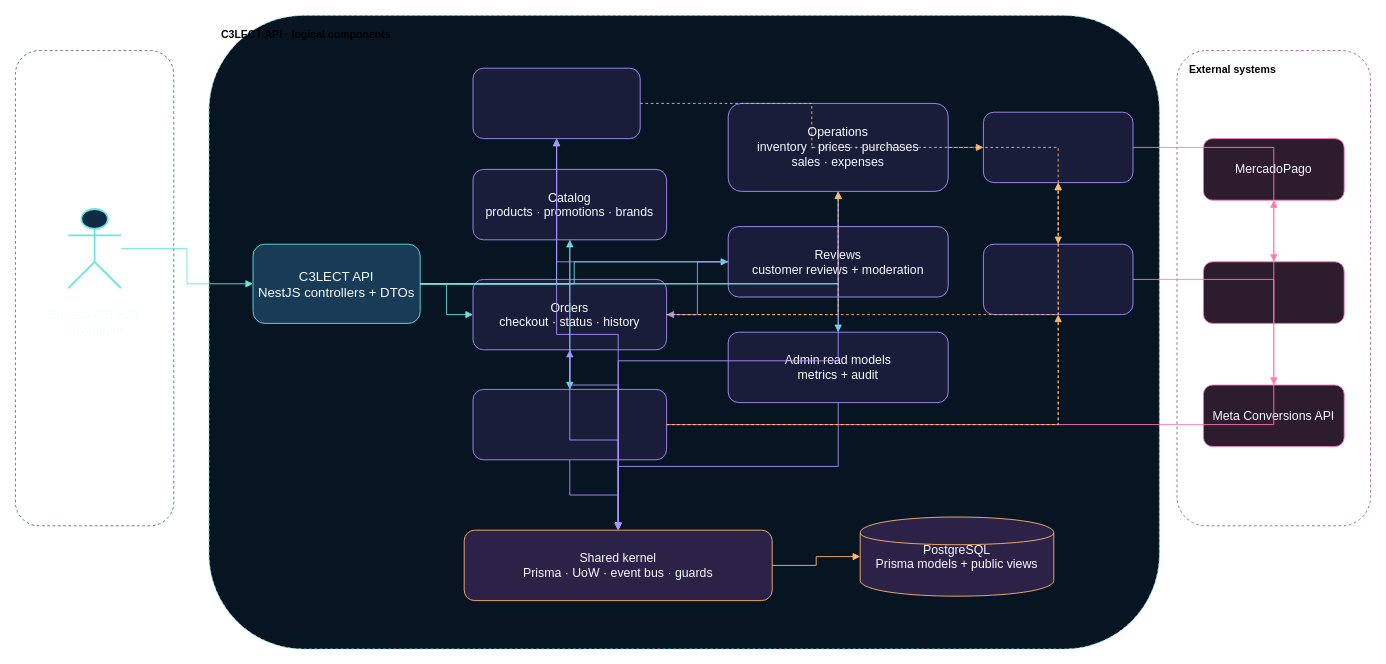
Some shapes in this 1386 by 664 pixel diagram are drawn without their labels. The shapes that lost their labels are listed below. From the top down, each one's box as (x1, y1, x2, y2) in pixels, then its label:
(472, 67, 640, 139): Identity auth · users · account
(983, 111, 1133, 183): Notifications after-commit subscribers
(15, 50, 174, 526): External client
(983, 243, 1133, 315): Meta conversions after-commit subscriber
(1203, 261, 1344, 323): Resend
(472, 389, 667, 460): Payments MercadoPago · webhook
